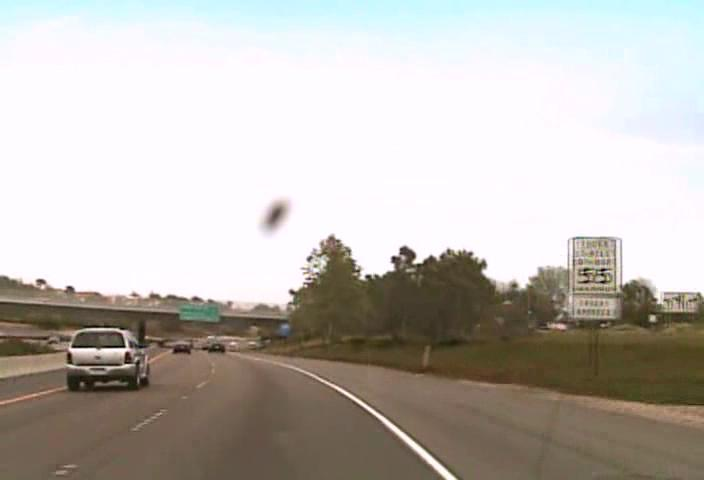truckSpeedLimit55: (568, 235, 622, 320)
